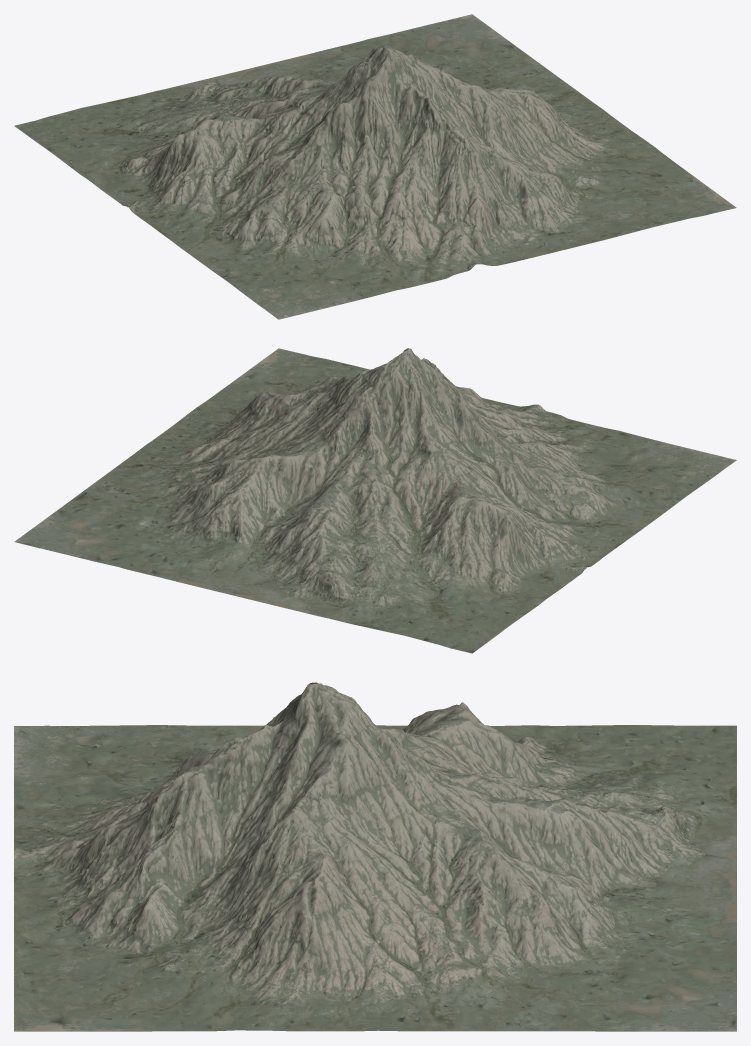
Rendered from single-mountain.glb.
3 renders of one model, top to bottom at view 1: azimuth 30°, elevation 25°; view 2: azimuth 150°, elevation 25°; view 3: azimuth 270°, elevation 25°, orthographic. The views are drawn at different scales.
Visible parts, largest first — view 1: Mesher_MesherMat_0; view 2: Mesher_MesherMat_0; view 3: Mesher_MesherMat_0.
Boxes of the visible parts, x1=… form: Mesher_MesherMat_0: x1=14, y1=14, x2=736, y2=319; Mesher_MesherMat_0: x1=14, y1=348, x2=736, y2=653; Mesher_MesherMat_0: x1=14, y1=682, x2=736, y2=1031.
Size of the model in its own units: 12.71 by 3.66 by 12.71.
1 material, 1 textured.
